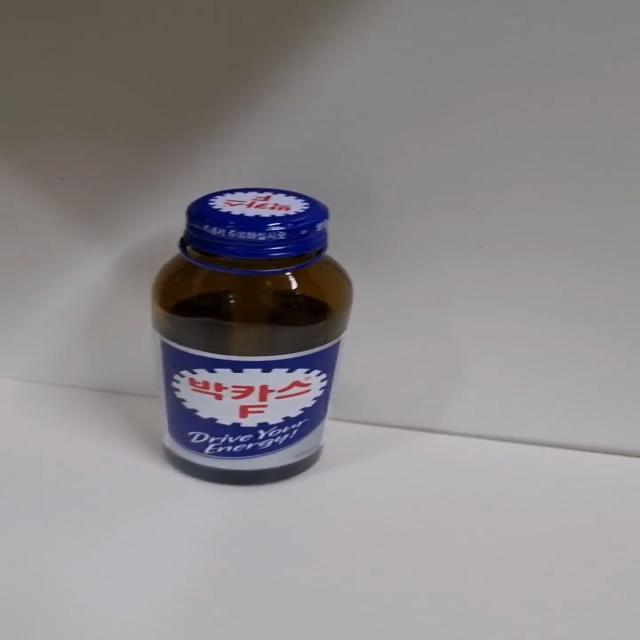Glass: (148, 187, 355, 488)
